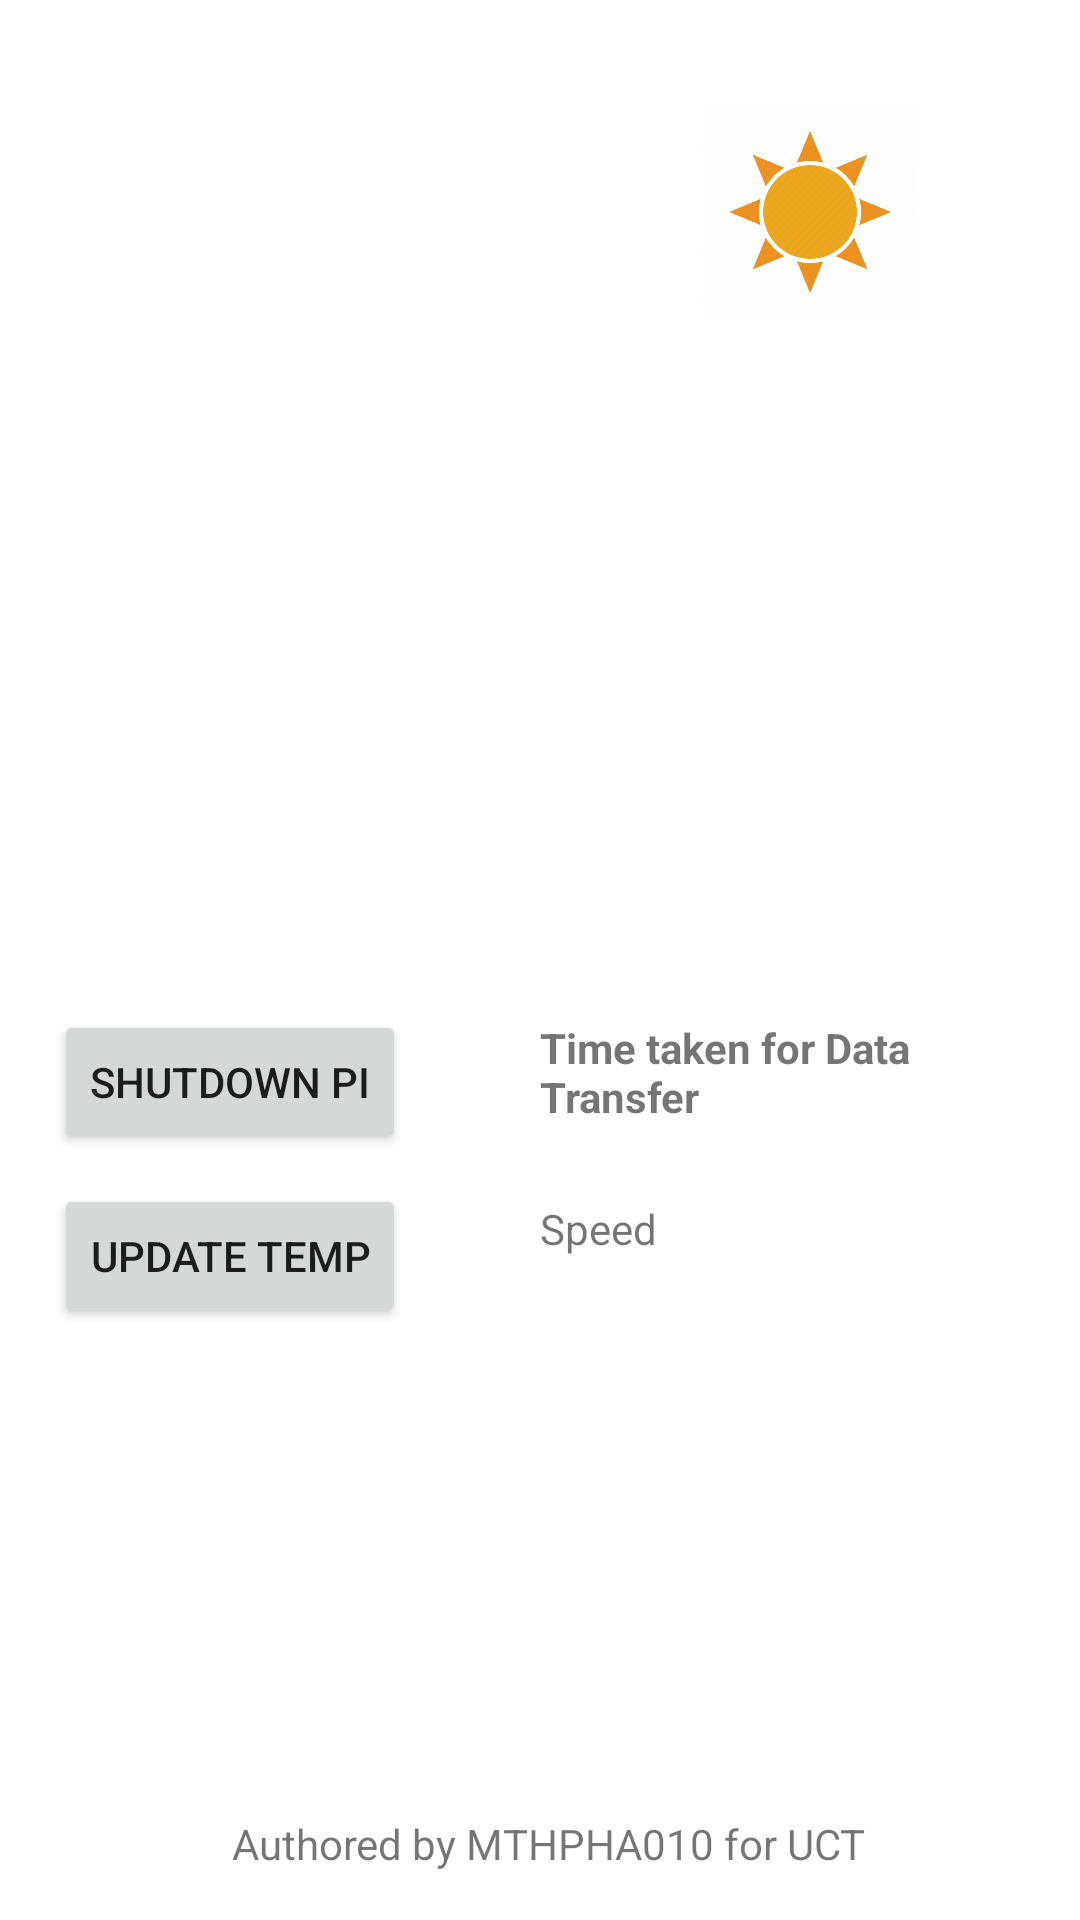

Named icons in this screenshot (1080 x 1920) and their centers, point (x, y):
sunny: point (810, 212)
